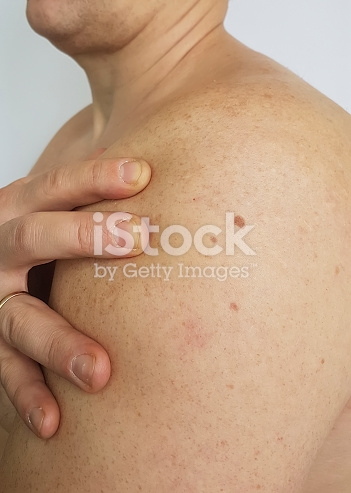mole: (231, 211, 252, 232), (225, 300, 243, 314)
